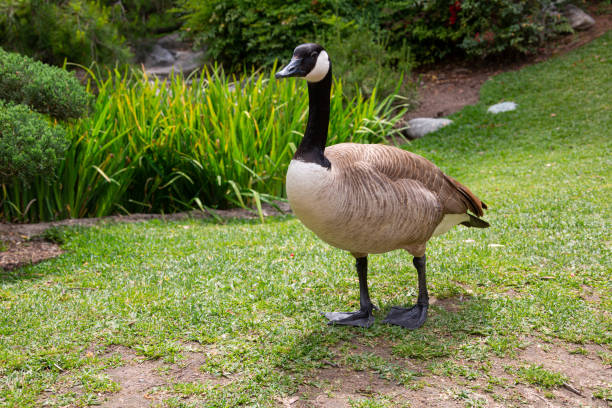goose: (273, 41, 495, 332)
